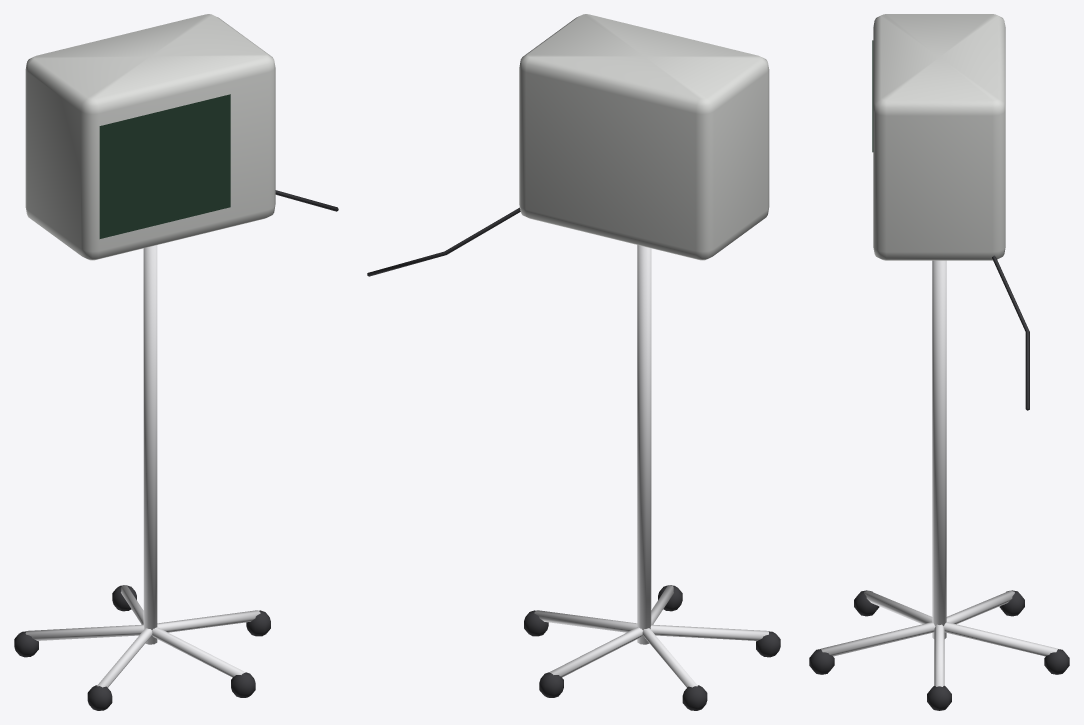
The model's file is heart_monitor.glb.
3 renders of one model, left to right at view 1: azimuth 30°, elevation 25°; view 2: azimuth 150°, elevation 25°; view 3: azimuth 270°, elevation 25°, orthographic.
Parts seen in each view (by area): view 1: heart_monitor; view 2: heart_monitor; view 3: heart_monitor.
Boxes of the visible parts, bbox=[...] form: heart_monitor: bbox=[14, 14, 338, 710]; heart_monitor: bbox=[367, 14, 780, 710]; heart_monitor: bbox=[809, 14, 1069, 710].
Bounding box in the file's own units: 0.8573 × 1.5 × 0.5899.
